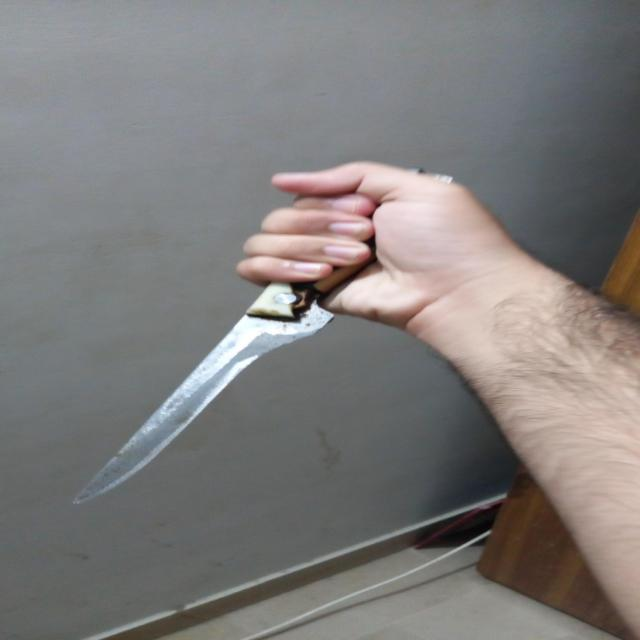weapon: (68, 170, 445, 508)
